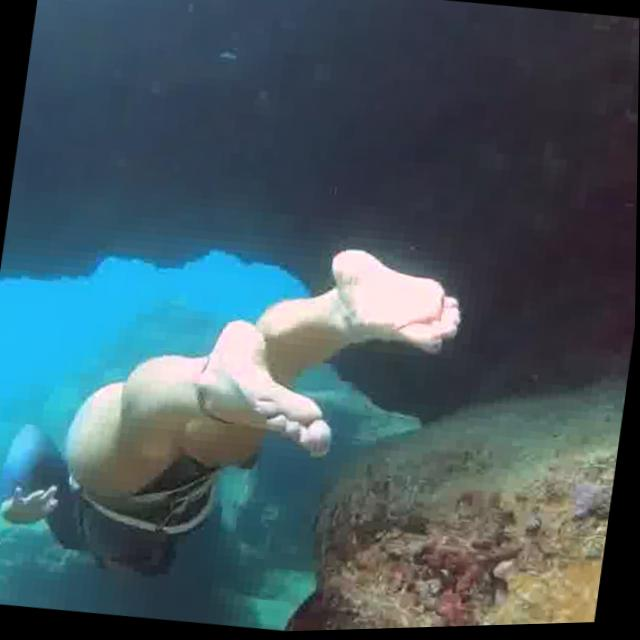human: (0, 195, 485, 619)
